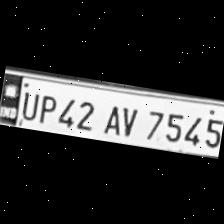2: (71, 95, 98, 131)
4: (180, 110, 204, 146), (54, 92, 78, 127)
5: (160, 106, 184, 142), (200, 114, 224, 148)
7: (138, 105, 164, 142)
A: (98, 98, 128, 136)
P: (34, 90, 58, 125)
U: (19, 86, 40, 122)
V: (116, 101, 140, 138)
